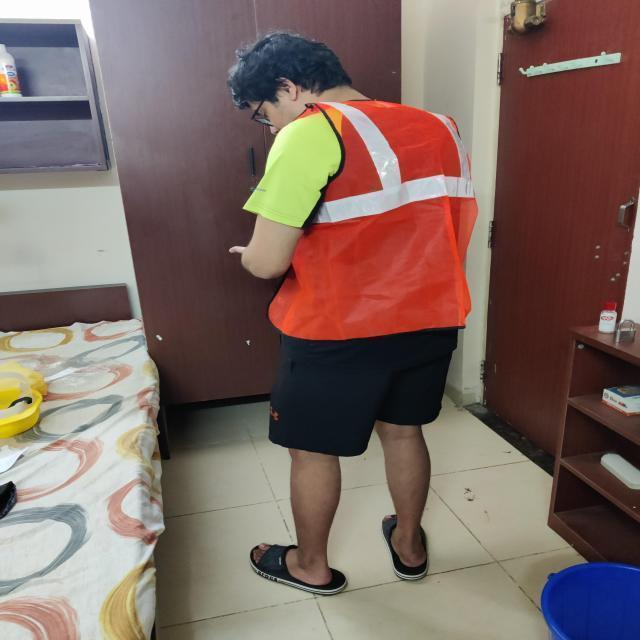no-helmet: (225, 32, 343, 120)
vest: (258, 101, 474, 348)
